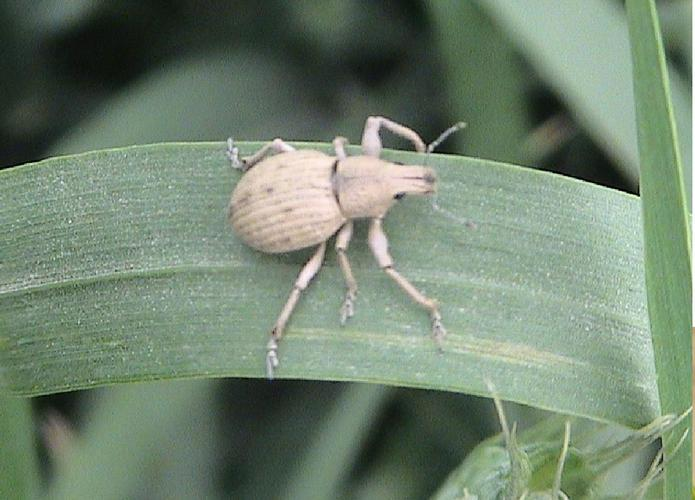Curculionidae: (226, 114, 470, 379)
